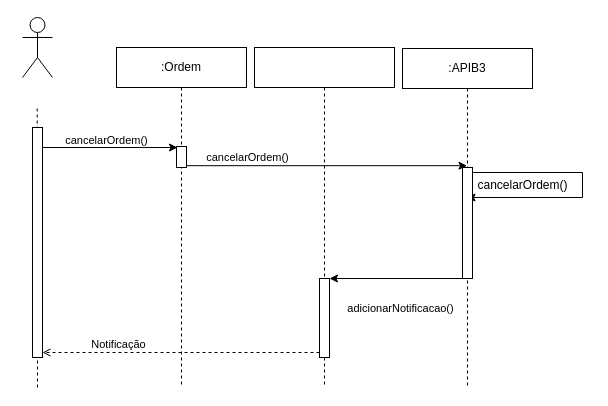
This 608x406 diagram has some shape labels left out. The box of each missing label's shape, as (x1, y1, x2, y2) in pixels:
:Usuario: (254, 46, 394, 388)
Usuário: (22, 16, 52, 78)
